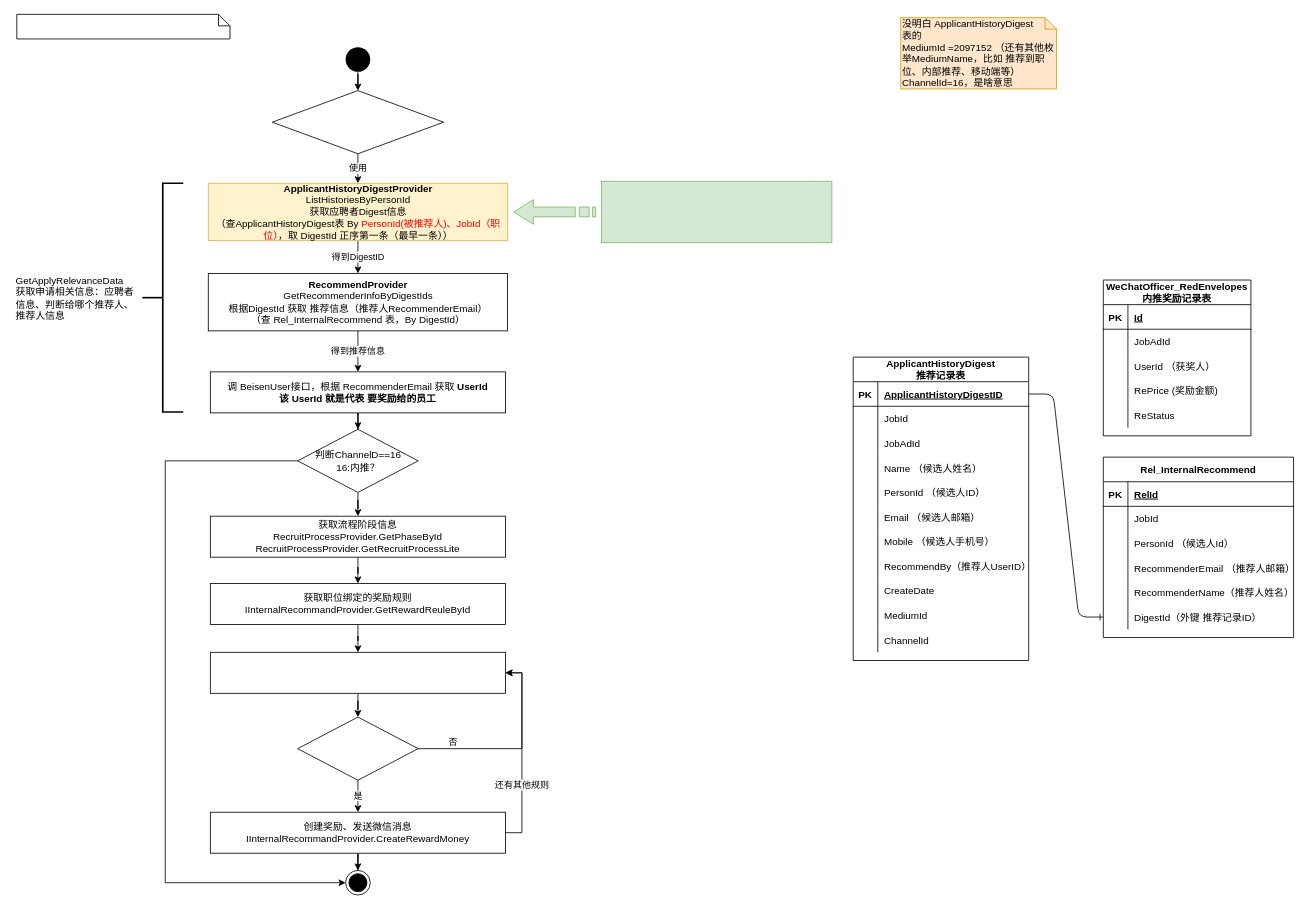
The diagram is 1309 pixels wide and 909 high, and some of its shapes have lost their labels. Each missing label, with the box of its shape:
Beisen.Recruiting.MailProcess.Dev InternalRewardMessageHandler.OnMessage: (16, 14, 230, 39)
新增逻辑判断 如果 不允许重复推荐 且 启用了内推保护期： 奖励给最晚的推荐人（Digest倒序第一条）； 否则： 奖励给最早的推荐人（Digest正序第一条）: (601, 180, 832, 243)
是否满足规则 ComputeCondition: (297, 716, 418, 780)
租户是否 开通奖励规则 IsUseRewardRule: (271, 90, 444, 154)
遍历奖励规则中的每个Task: (210, 651, 506, 693)
